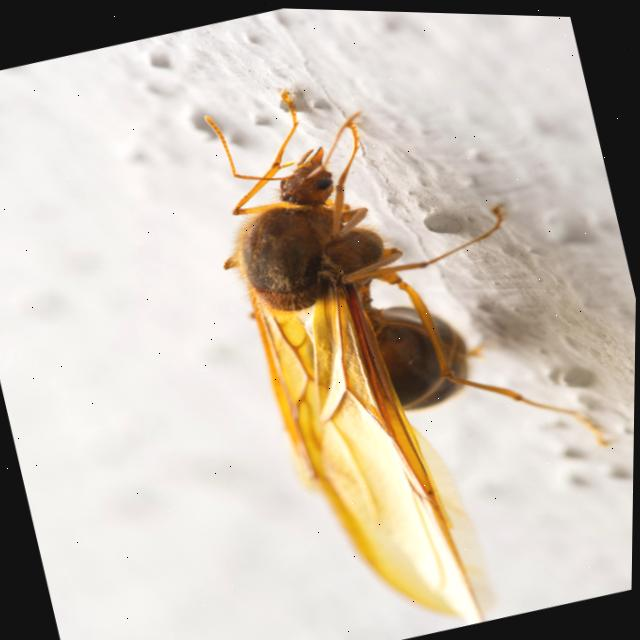Alive-Male-Alate: (179, 26, 640, 640)
